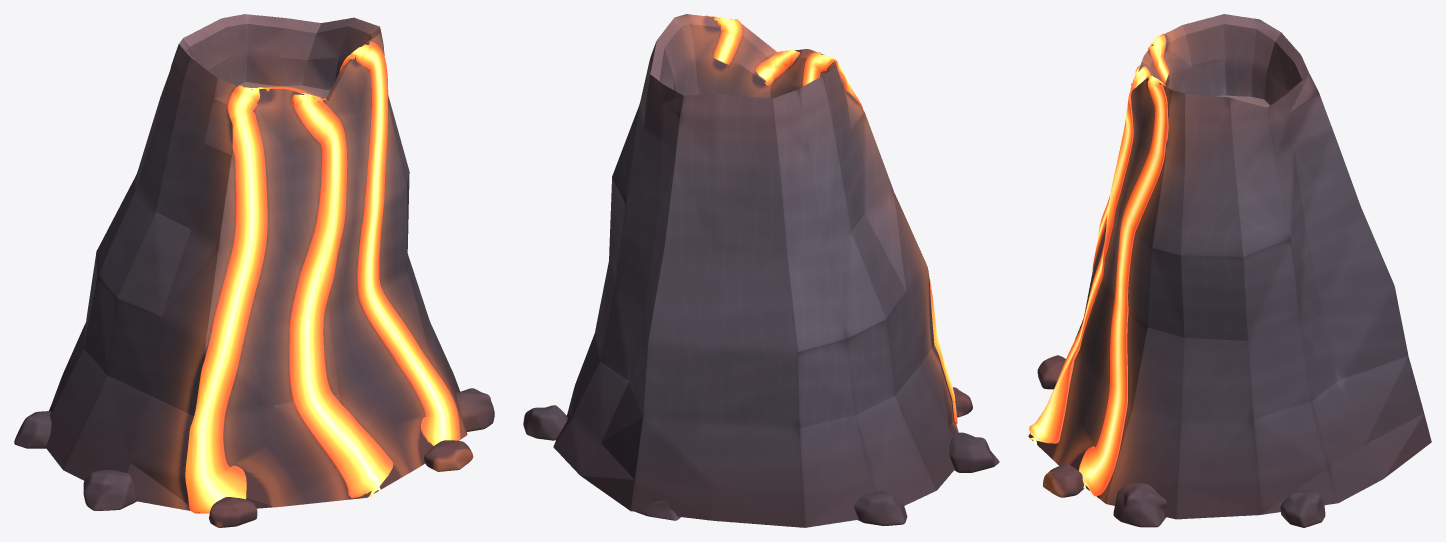
The model's file is EF_B01_Volcano.fbx.
3 renders of one model, left to right at view 1: azimuth 30°, elevation 25°; view 2: azimuth 150°, elevation 25°; view 3: azimuth 270°, elevation 25°, orthographic.
Visible parts, largest first — view 1: Rock_LOD0, Lava_Band_01_LOD0, Lava_Band_02_LOD0, Lava_Band_03_LOD0; view 2: Rock_LOD0, Lava_Band_01_LOD0, Lava_Band_03_LOD0, Lava_Band_02_LOD0; view 3: Rock_LOD0, Lava_Band_03_LOD0, Lava_Band_02_LOD0, Lava_Band_01_LOD0.
Part boxes in pixels (x1=…): Rock_LOD0: x1=14, y1=14, x2=494, y2=527; Lava_Band_01_LOD0: x1=185, y1=85, x2=311, y2=513; Lava_Band_02_LOD0: x1=289, y1=92, x2=393, y2=498; Lava_Band_03_LOD0: x1=339, y1=41, x2=460, y2=445; Rock_LOD0: x1=523, y1=14, x2=999, y2=527; Lava_Band_01_LOD0: x1=802, y1=52, x2=957, y2=423; Lava_Band_03_LOD0: x1=705, y1=15, x2=742, y2=64; Lava_Band_02_LOD0: x1=755, y1=50, x2=799, y2=86; Rock_LOD0: x1=1028, y1=14, x2=1431, y2=527; Lava_Band_03_LOD0: x1=1079, y1=75, x2=1168, y2=496; Lava_Band_02_LOD0: x1=1029, y1=65, x2=1150, y2=448; Lava_Band_01_LOD0: x1=1092, y1=33, x2=1169, y2=269.
Size of what is drawn, in the model's own units: 32 by 30 by 28.
